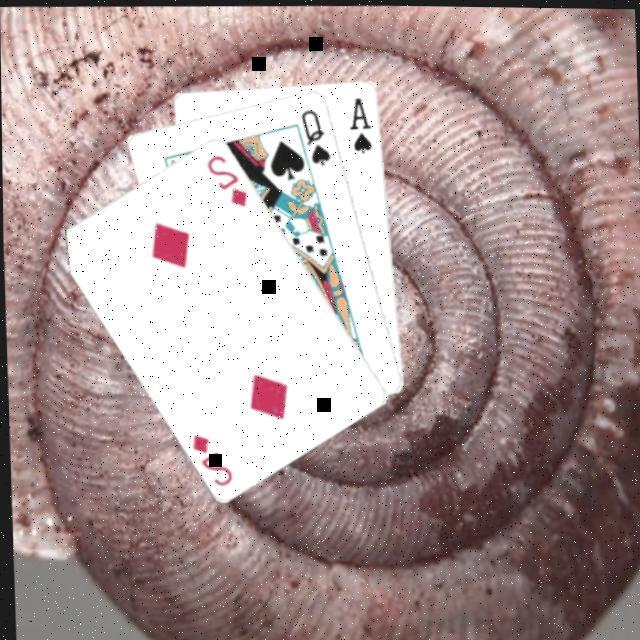2D: (202, 147, 250, 207), (188, 426, 235, 486)
AS: (346, 90, 376, 152)
QS: (298, 102, 334, 165)
